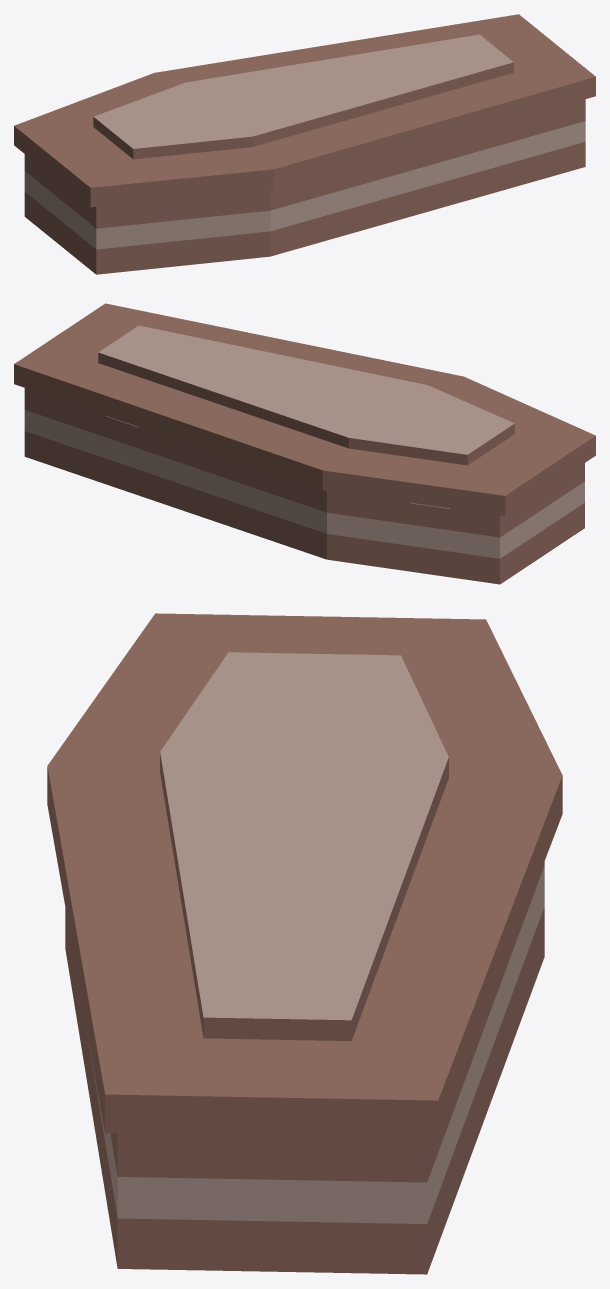
File: dec3d96d-d488-48ab-900f-aca3541187ec.glb
The picture shows the model from 3 angles, top to bottom: view 1: azimuth 30°, elevation 25°; view 2: azimuth 150°, elevation 25°; view 3: azimuth 270°, elevation 25°; orthographic projection. The views are drawn at different scales.
Visible parts, largest first — view 1: Object002, Box004; view 2: Object002, Box004; view 3: Object002, Box004.
Part boxes in pixels (x1,y1,x2,y2): Object002: (14, 14, 595, 207); Box004: (24, 99, 585, 274); Object002: (14, 303, 595, 515); Box004: (24, 388, 584, 584); Object002: (47, 613, 562, 1139); Box004: (65, 862, 544, 1274).
Bounding box in the file's own units: 963849 × 186718 × 430726.
